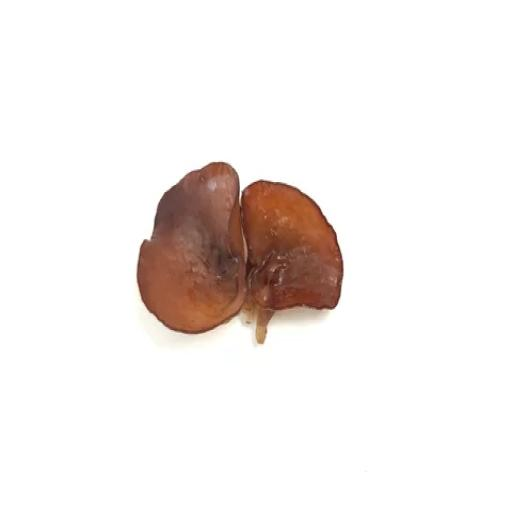Wood Ear Mushroom: (239, 164, 352, 357), (134, 158, 248, 342)
